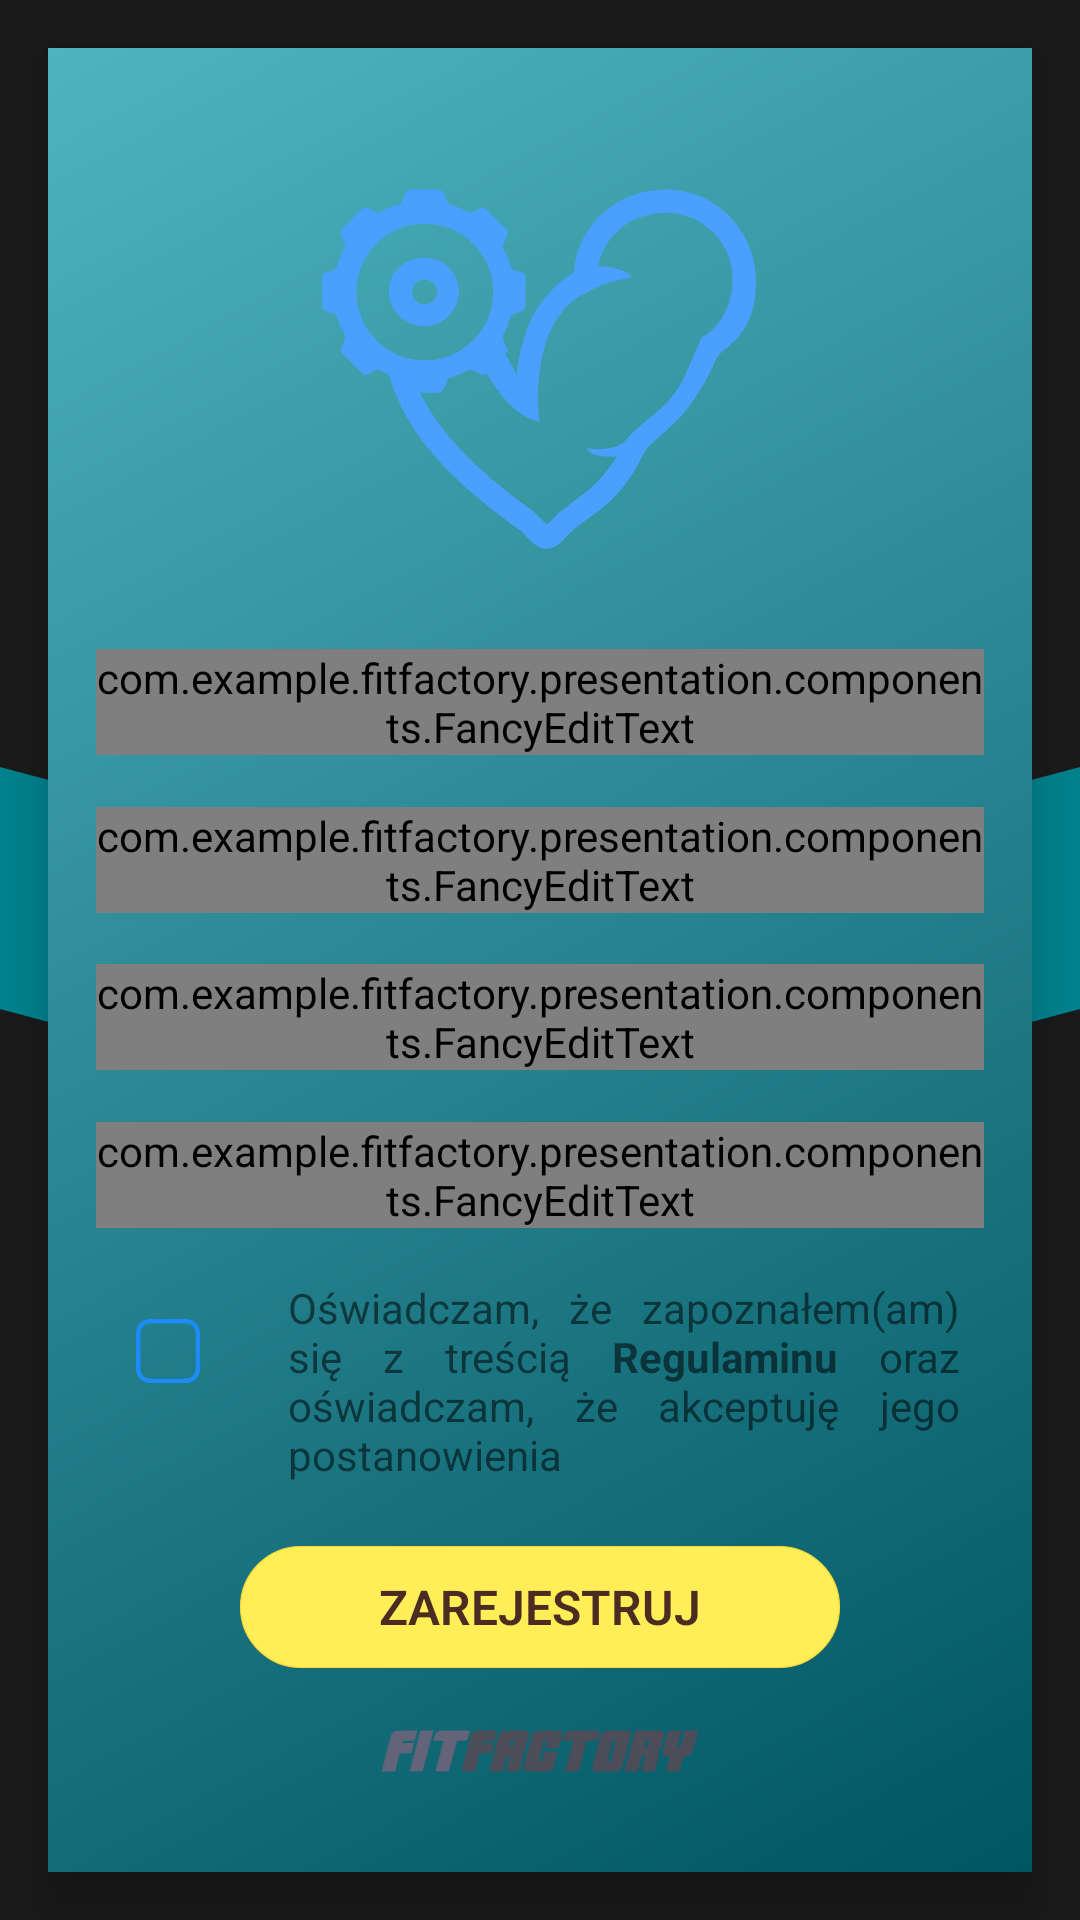

Icon bounding boxes for this 1080w x 1920h phone screenshot, format [x1, y1, x2, y2]:
checkbox: [136, 1319, 200, 1383]
